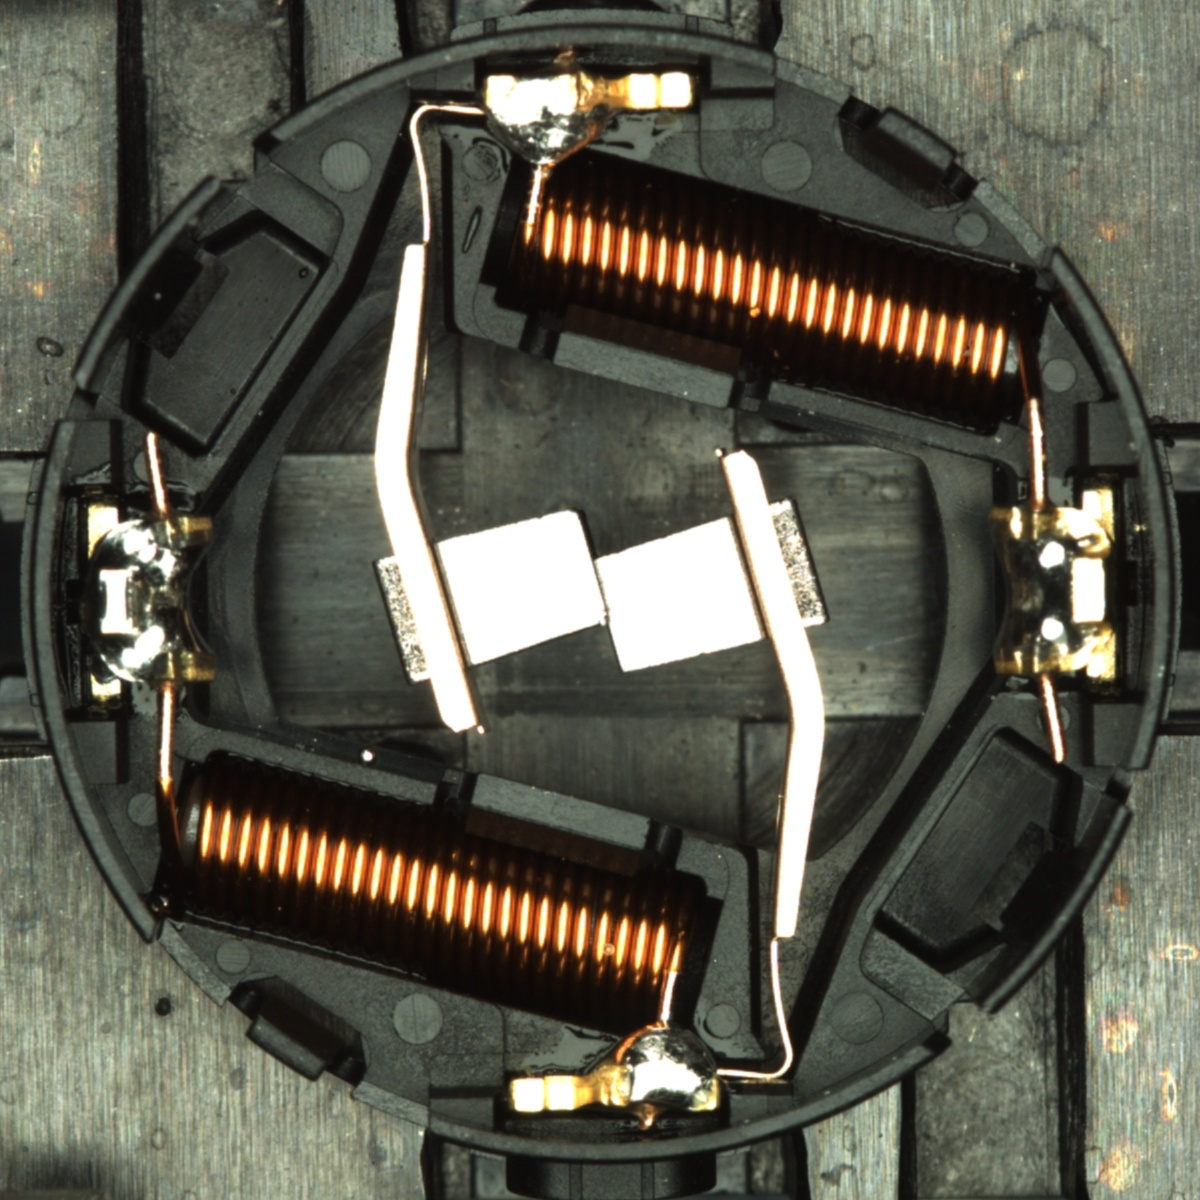1: (254, 29, 483, 253), (712, 927, 941, 1151)
2: (712, 29, 941, 253), (254, 927, 483, 1151)
3: (24, 253, 254, 478), (941, 702, 1171, 927)
4: (254, 253, 483, 478), (712, 702, 941, 927)
5: (483, 141, 712, 366), (483, 814, 712, 1039)
6: (712, 253, 941, 478), (254, 702, 483, 927)
7: (941, 253, 1171, 478), (24, 702, 254, 927)
bui_chi: (357, 747, 377, 767)
cacbon: (393, 496, 802, 684)
chau_dien: (82, 497, 222, 700), (982, 487, 1123, 686)
tay_choi: (482, 68, 698, 171), (508, 1019, 722, 1116)
thanh_de: (954, 787, 1141, 1029), (59, 163, 245, 404)
